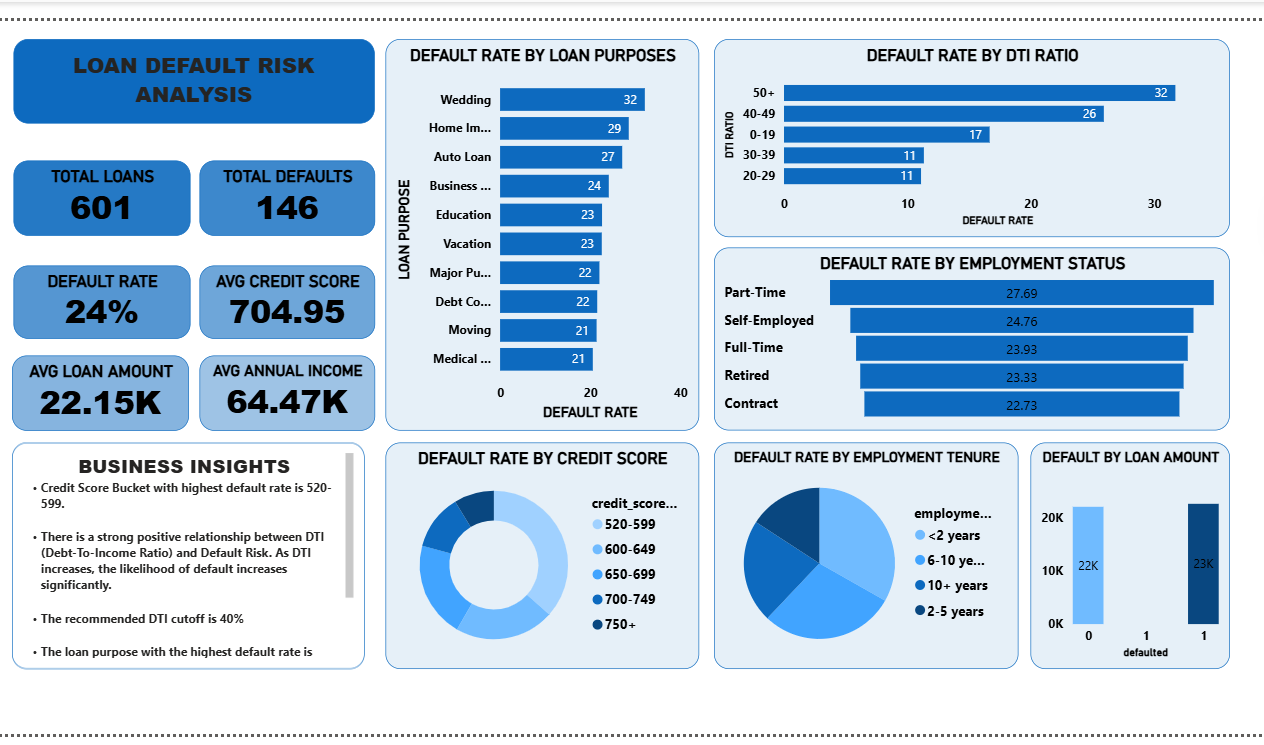

The dashboard page shown, as its layout file describes it:
{"tool":"powerbi","page":{"name":"Page 1","canvas":[1280,720],"ordinal":0},"visuals":[{"type":"textbox","box":[17,18.9,364.7,85],"z":0},{"type":"card","title":"TOTAL LOANS","fields":{"Values":["CountNonNull(loan_applications.loan_id)"]},"box":[16.7,140.8,178.7,75.7],"z":1000},{"type":"card","title":"TOTAL DEFAULTS","fields":{"Values":["Sum(loan_applications.defaulted)"]},"box":[204.4,140.8,177.2,75.7],"z":2000},{"type":"card","title":"DEFAULT RATE","fields":{"Values":["loan_applications.DEFAULT RATE"]},"box":[16.7,246.8,178.7,74.2],"z":3000},{"type":"card","title":"AVG CREDIT SCORE","fields":{"Values":["Avg(borrower_profiles.credit_score)"]},"box":[204.4,246.8,177.2,74.2],"z":4000},{"type":"card","title":"AVG LOAN AMOUNT","fields":{"Values":["Avg(loan_applications.loan_amount)"]},"box":[15.1,337.7,178.7,75.7],"z":5000},{"type":"card","title":"AVG ANNUAL INCOME","fields":{"Values":["Avg(borrower_profiles.annual_income)"]},"box":[204.4,337.7,177.2,75.7],"z":6000},{"type":"barChart","title":"DEFAULT RATE BY LOAN PURPOSES","fields":{"Category":["default rate by loan purpose.Column1"],"Y":["Sum(default rate by loan purpose.Column4)"]},"box":[392.2,18.2,316.5,395.2],"z":7000},{"type":"barChart","title":"DEFAULT RATE BY DTI RATIO","fields":{"Y":["Sum(default_rate by dti_ratio_bucket.Column4)"],"Category":["default_rate by dti_ratio_bucket.Column1"]},"box":[723.8,18.2,520.9,199.9],"z":8000},{"type":"funnel","title":"DEFAULT RATE BY EMPLOYMENT STATUS","fields":{"Y":["Sum(default rate by employment status.Column4)"],"Category":["default rate by employment status.Column1"]},"box":[723.8,228.6,520.9,184.7],"z":9000},{"type":"donutChart","title":"DEFAULT RATE BY CREDIT SCORE","fields":{"Y":["Sum(default_rate by credit_score_bucket.Column4)"],"Category":["default_rate by credit_score_bucket.Column1"]},"box":[392.2,425.5,316.5,228.6],"z":10000},{"type":"pieChart","title":"DEFAULT RATE BY EMPLOYMENT TENURE","fields":{"Y":["Sum(default rate by employment tenure.Column4)"],"Category":["default rate by employment tenure.Column1"]},"box":[723.8,425.5,307.4,228.6],"z":11000},{"type":"columnChart","title":"DEFAULT BY LOAN AMOUNT","fields":{"Y":["Sum(default by loan amount.Column3)"],"Category":["default by loan amount.Column1"]},"box":[1043.3,425.5,201.4,228.6],"z":12000},{"type":"textbox","box":[15.1,425.5,355.8,228.6],"z":13000}]}

Visuals, with their boxes on the page's 1280x720 design canvas (x1, y1, x2, y2). These are canvas units, not pixel positions in the 1264x745 screenshot, which may show the page scaled, cropped or inside an application window:
textbox: [left=17, top=19, right=382, bottom=104]
"TOTAL LOANS" card: [left=17, top=141, right=195, bottom=216]
"TOTAL DEFAULTS" card: [left=204, top=141, right=382, bottom=216]
"DEFAULT RATE" card: [left=17, top=247, right=195, bottom=321]
"AVG CREDIT SCORE" card: [left=204, top=247, right=382, bottom=321]
"AVG LOAN AMOUNT" card: [left=15, top=338, right=194, bottom=413]
"AVG ANNUAL INCOME" card: [left=204, top=338, right=382, bottom=413]
"DEFAULT RATE BY LOAN PURPOSES" barChart: [left=392, top=18, right=709, bottom=413]
"DEFAULT RATE BY DTI RATIO" barChart: [left=724, top=18, right=1245, bottom=218]
"DEFAULT RATE BY EMPLOYMENT STATUS" funnel: [left=724, top=229, right=1245, bottom=413]
"DEFAULT RATE BY CREDIT SCORE" donutChart: [left=392, top=426, right=709, bottom=654]
"DEFAULT RATE BY EMPLOYMENT TENURE" pieChart: [left=724, top=426, right=1031, bottom=654]
"DEFAULT BY LOAN AMOUNT" columnChart: [left=1043, top=426, right=1245, bottom=654]
textbox: [left=15, top=426, right=371, bottom=654]
